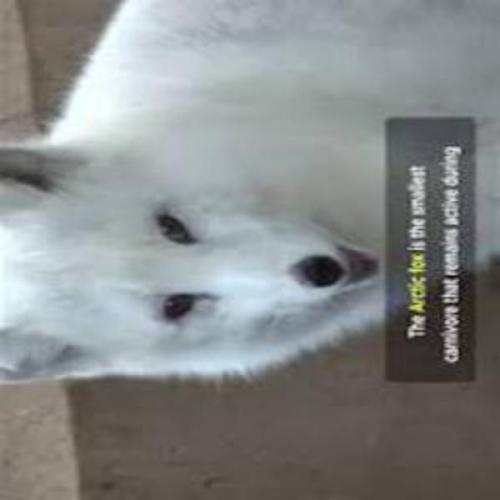arctic_fox-endangered: (0, 0, 500, 381)
